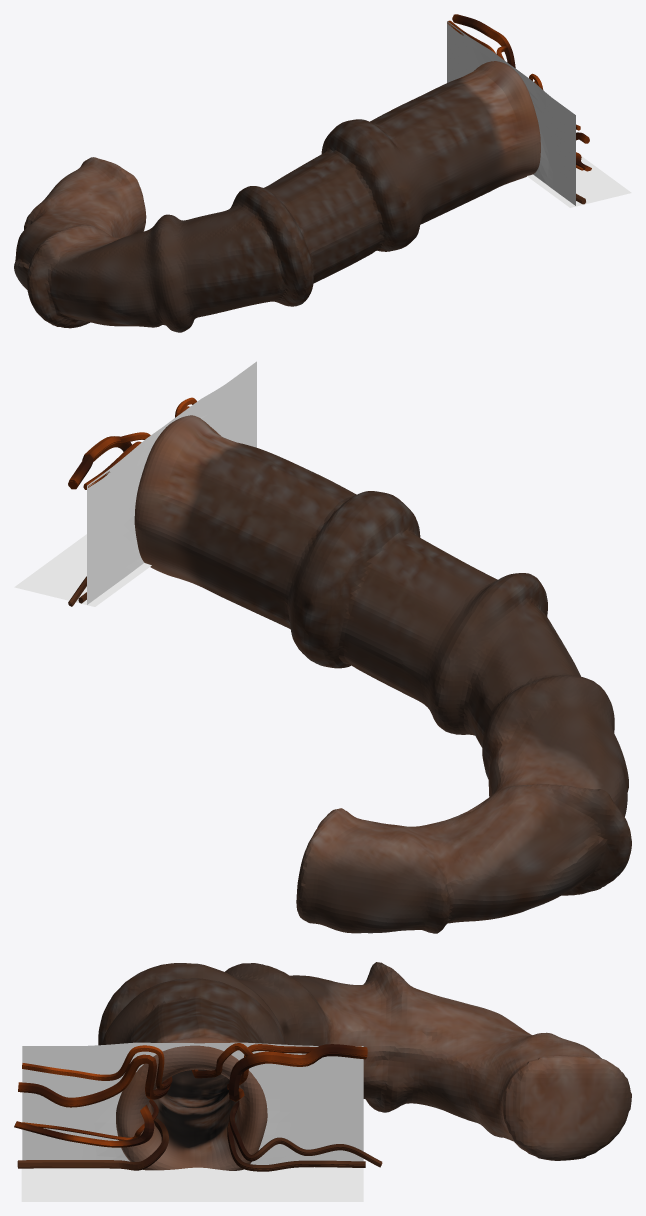
Rendered from Salle eau(5).fbx.
3 views of the same model, one above another, from view 1: azimuth 30°, elevation 25°; view 2: azimuth 150°, elevation 25°; view 3: azimuth 270°, elevation 25° (orthographic). The views are drawn at different scales.
Visible parts, largest first — view 1: Cylindre, Plan 1, Plan 2, Plan, Tube 33; view 2: Cylindre, Plan 2, Plan 1, Plan, Tube 33; view 3: Cylindre, Plan, Plan 2, Plan 1, Tube 33, Tube 55, Tube 52, Tube 49, Tube 50, Tube 54, Tube 46, Tube 53 (+1 smaller).
Boxes of the visible parts, box(x1,y1,x2,y2) form: Cylindre: box(14, 61, 540, 332); Plan 1: box(508, 63, 575, 205); Plan 2: box(447, 21, 513, 82); Plan: box(527, 156, 631, 207); Tube 33: box(447, 14, 589, 203); Cylindre: box(134, 415, 631, 933); Plan 2: box(87, 419, 174, 604); Plan 1: box(169, 361, 256, 447); Plan: box(14, 534, 151, 606); Tube 33: box(68, 397, 196, 604); Cylindre: box(98, 962, 631, 1170); Plan: box(21, 1167, 363, 1201); Plan 2: box(205, 1042, 363, 1164); Plan 1: box(22, 1042, 207, 1161); Tube 33: box(17, 1043, 382, 1169); Tube 55: box(14, 1104, 154, 1147); Tube 52: box(18, 1059, 170, 1107); Tube 49: box(229, 1053, 367, 1101); Tube 50: box(22, 1049, 172, 1090); Tube 54: box(22, 1099, 158, 1140); Tube 46: box(229, 1109, 382, 1167); Tube 53: box(17, 1125, 168, 1170).
Size of the model in its own units: 18.19 by 8.36 by 15.63.
